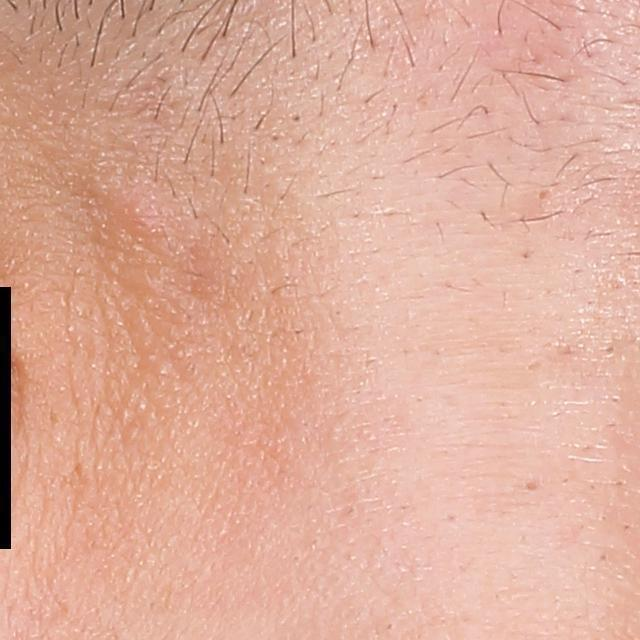comedo: (520, 473, 544, 495), (535, 185, 553, 202), (602, 342, 616, 359)
